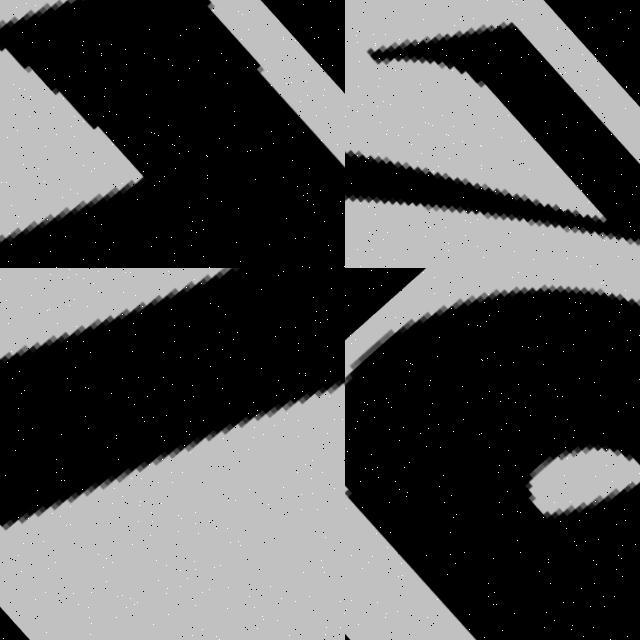2: (345, 0, 640, 268)
I: (0, 268, 345, 529)
L: (0, 0, 345, 268)
P: (345, 287, 640, 640)
